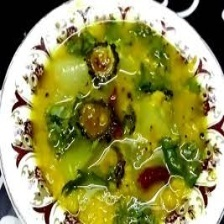sabzi: (30, 20, 209, 224)
